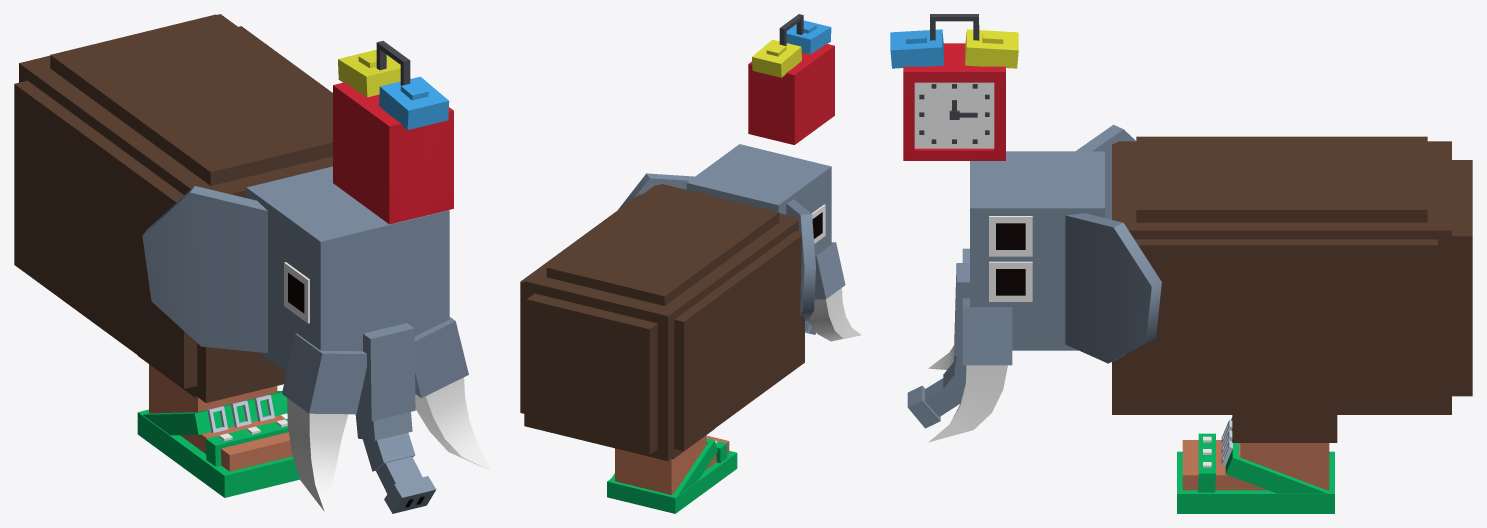
Rendered from Lirili_Larila.fbx.
3 views of the same model, side by side, from view 1: azimuth 30°, elevation 25°; view 2: azimuth 150°, elevation 25°; view 3: azimuth 270°, elevation 25° (orthographic). The views are drawn at different scales.
Parts seen in each view (by area): view 1: Lirili_Larila.006; view 2: Lirili_Larila.006; view 3: Lirili_Larila.006.
Part boxes in pixels (bbox=[...]): Lirili_Larila.006: bbox=[14, 14, 491, 513]; Lirili_Larila.006: bbox=[520, 14, 861, 513]; Lirili_Larila.006: bbox=[890, 14, 1472, 513].
Size of the model in its own units: 0.8819 by 1.55 by 1.72.
